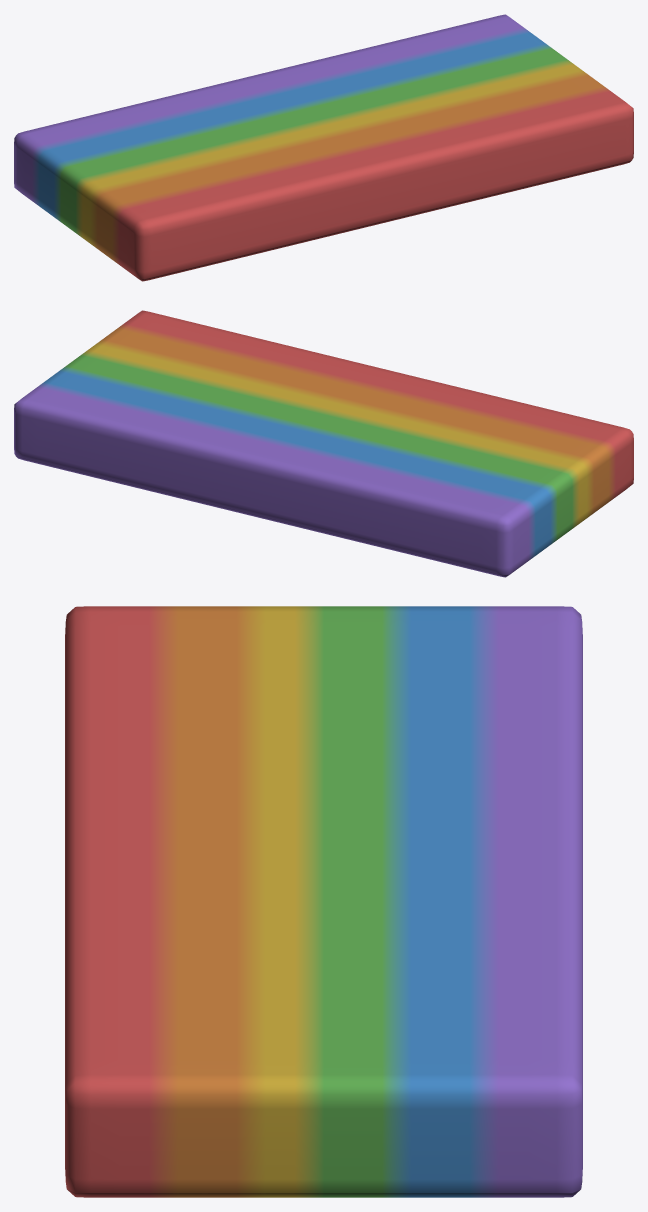
Rendered from Plank_Prismwood.glb.
The picture shows the model from 3 angles, top to bottom: view 1: azimuth 30°, elevation 25°; view 2: azimuth 150°, elevation 25°; view 3: azimuth 270°, elevation 25°; orthographic projection. The views are drawn at different scales.
Visible parts, largest first — view 1: Plank_prismwood; view 2: Plank_prismwood; view 3: Plank_prismwood.
Part boxes in pixels (x1,y1,x2,y2): Plank_prismwood: (14,14,633,281); Plank_prismwood: (14,310,633,577); Plank_prismwood: (65,606,582,1197).
Size of the model in its own units: 1.24 by 0.14 by 0.56.
